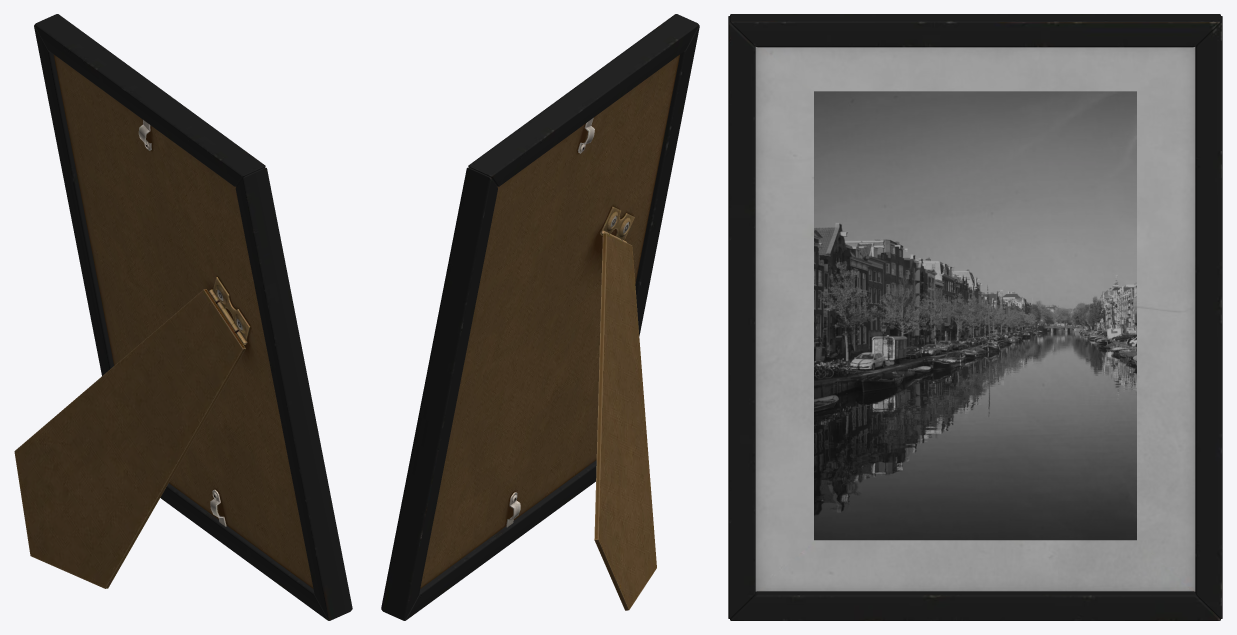
File: polyhaven-standing-picture-frame-01.glb
The picture shows the model from 3 angles, left to right: view 1: azimuth 30°, elevation 25°; view 2: azimuth 150°, elevation 25°; view 3: azimuth 270°, elevation 25°; orthographic projection. The views are drawn at different scales.
Visible parts, largest first — view 1: standing_picture_frame_01_2; view 2: standing_picture_frame_01_2; view 3: standing_picture_frame_01_2, standing_picture_frame_01_1, standing_picture_frame_01_0.
Part boxes in pixels (bbox=[...]): standing_picture_frame_01_2: bbox=[14, 14, 352, 620]; standing_picture_frame_01_2: bbox=[381, 14, 699, 620]; standing_picture_frame_01_2: bbox=[728, 14, 1222, 620]; standing_picture_frame_01_1: bbox=[814, 91, 1136, 540]; standing_picture_frame_01_0: bbox=[756, 47, 1194, 591].
Bounding box in the file's own units: 0.1003 × 0.2497 × 0.2008.
Materials: 3 (3 with a texture image).
